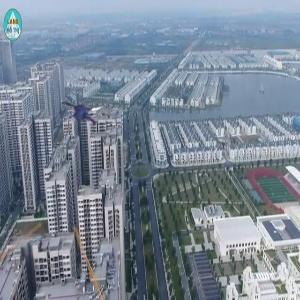drone: (58, 85, 114, 141)
